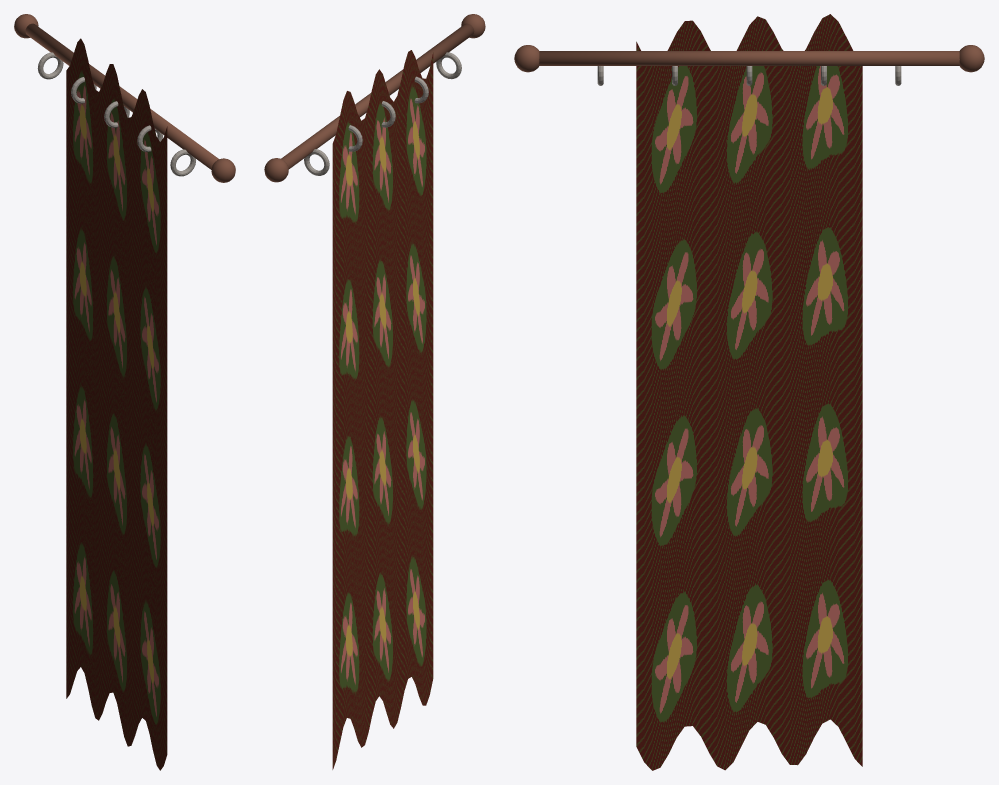
Rendered from curtain-floral.glb.
3 renders of one model, left to right at view 1: azimuth 30°, elevation 25°; view 2: azimuth 150°, elevation 25°; view 3: azimuth 270°, elevation 25°, orthographic. The views are drawn at different scales.
Parts seen in each view (by area): view 1: panel, merged_wood_dark, merged_metal_light; view 2: panel, merged_wood_dark, merged_metal_light; view 3: panel, merged_wood_dark.
Part boxes in pixels (x1,y1,x2,y2): panel: (66,38,167,770); merged_wood_dark: (14,14,235,182); merged_metal_light: (37,52,195,176); panel: (332,50,433,769); merged_wood_dark: (264,14,485,182); merged_metal_light: (304,52,461,175); panel: (636,14,862,770); merged_wood_dark: (514,45,984,72).
Size of the model in its own units: 0.117 by 2.41 by 1.36.
Materials: 3 (1 with a texture image).
